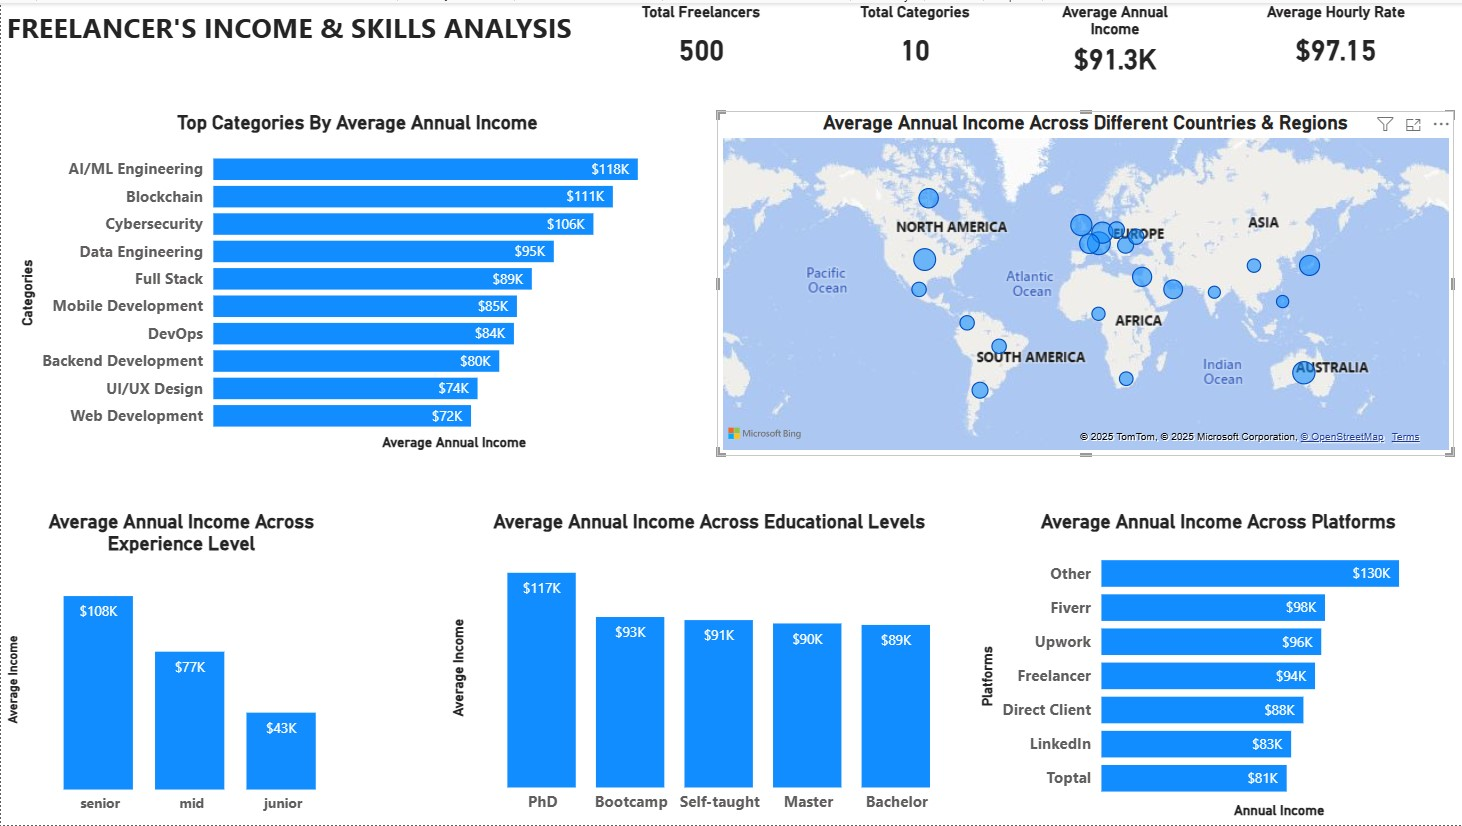

Layout of this report page (visuals, bound fields, positions):
{"tool":"powerbi","page":{"name":"Page 1","canvas":[1280,720],"ordinal":0},"visuals":[{"type":"clusteredBarChart","title":"Top Categories By Average Annual Income","fields":{"Category":["freelancer_analysis dataset.category"],"Y":["Avg(freelancer_analysis dataset.annualincome)"]},"box":[737.3,135.2,531.1,267.5],"z":1},{"type":"clusteredColumnChart","title":"Average Annual Income Across  Experience Level","fields":{"Category":["freelancer_analysis dataset.experiencelevel"],"Y":["Avg(freelancer_analysis dataset.annualincome)"]},"box":[0,444.5,316.1,275.3],"z":2},{"type":"map","title":"Average Annual Income Across Different Countries & Regions","fields":{"Category":["freelancer_analysis dataset.country"],"Size":["Avg(freelancer_analysis dataset.annualincome)"]},"box":[0,108.9,683.8,301.5],"z":3},{"type":"clusteredColumnChart","title":"Average Annual Income Across  Educational Levels","fields":{"Y":["Avg(freelancer_analysis dataset.annualincome)"],"Category":["freelancer_analysis dataset.education"]},"box":[389.1,444.5,463,275.3],"z":4},{"type":"clusteredBarChart","title":"Average Annual Income Across Platforms","fields":{"Category":["freelancer_analysis dataset.primaryplatform"],"Y":["Avg(freelancer_analysis dataset.annualincome)"]},"box":[852,444,428,275],"z":5},{"type":"textbox","box":[0,0,526.2,46.7],"z":6},{"type":"card","title":"Total Freelancers","fields":{"Values":["Count(freelancer_analysis dataset.freelancerid)"]},"box":[541.8,0,142,67.1],"z":7},{"type":"card","title":"Total Categories","fields":{"Values":["Count(freelancer_analysis dataset.category)"]},"box":[729.5,0,142,67.1],"z":8},{"type":"card","title":"Average Annual Income","fields":{"Values":["Avg(freelancer_analysis dataset.annualincome)"]},"box":[904.6,0,142,67.1],"z":9},{"type":"card","title":"Average Hourly Rate","fields":{"Values":["Avg(freelancer_analysis dataset.hourlyrate)"]},"box":[1098.1,0,142,67.1],"z":10}]}

Visuals, with their boxes in screenshot pixels (x1, y1, x2, y2), scaled from the page's 1280x720 canvas onto the 1462x826 screenshot:
"Top Categories By Average Annual Income" clusteredBarChart: x1=842 y1=155 x2=1449 y2=462
"Average Annual Income Across  Experience Level" clusteredColumnChart: x1=0 y1=510 x2=361 y2=825
"Average Annual Income Across Different Countries & Regions" map: x1=0 y1=125 x2=781 y2=471
"Average Annual Income Across  Educational Levels" clusteredColumnChart: x1=444 y1=510 x2=973 y2=825
"Average Annual Income Across Platforms" clusteredBarChart: x1=973 y1=509 x2=1461 y2=825
textbox: x1=0 y1=0 x2=601 y2=54
"Total Freelancers" card: x1=619 y1=0 x2=781 y2=77
"Total Categories" card: x1=833 y1=0 x2=995 y2=77
"Average Annual Income" card: x1=1033 y1=0 x2=1195 y2=77
"Average Hourly Rate" card: x1=1254 y1=0 x2=1416 y2=77
